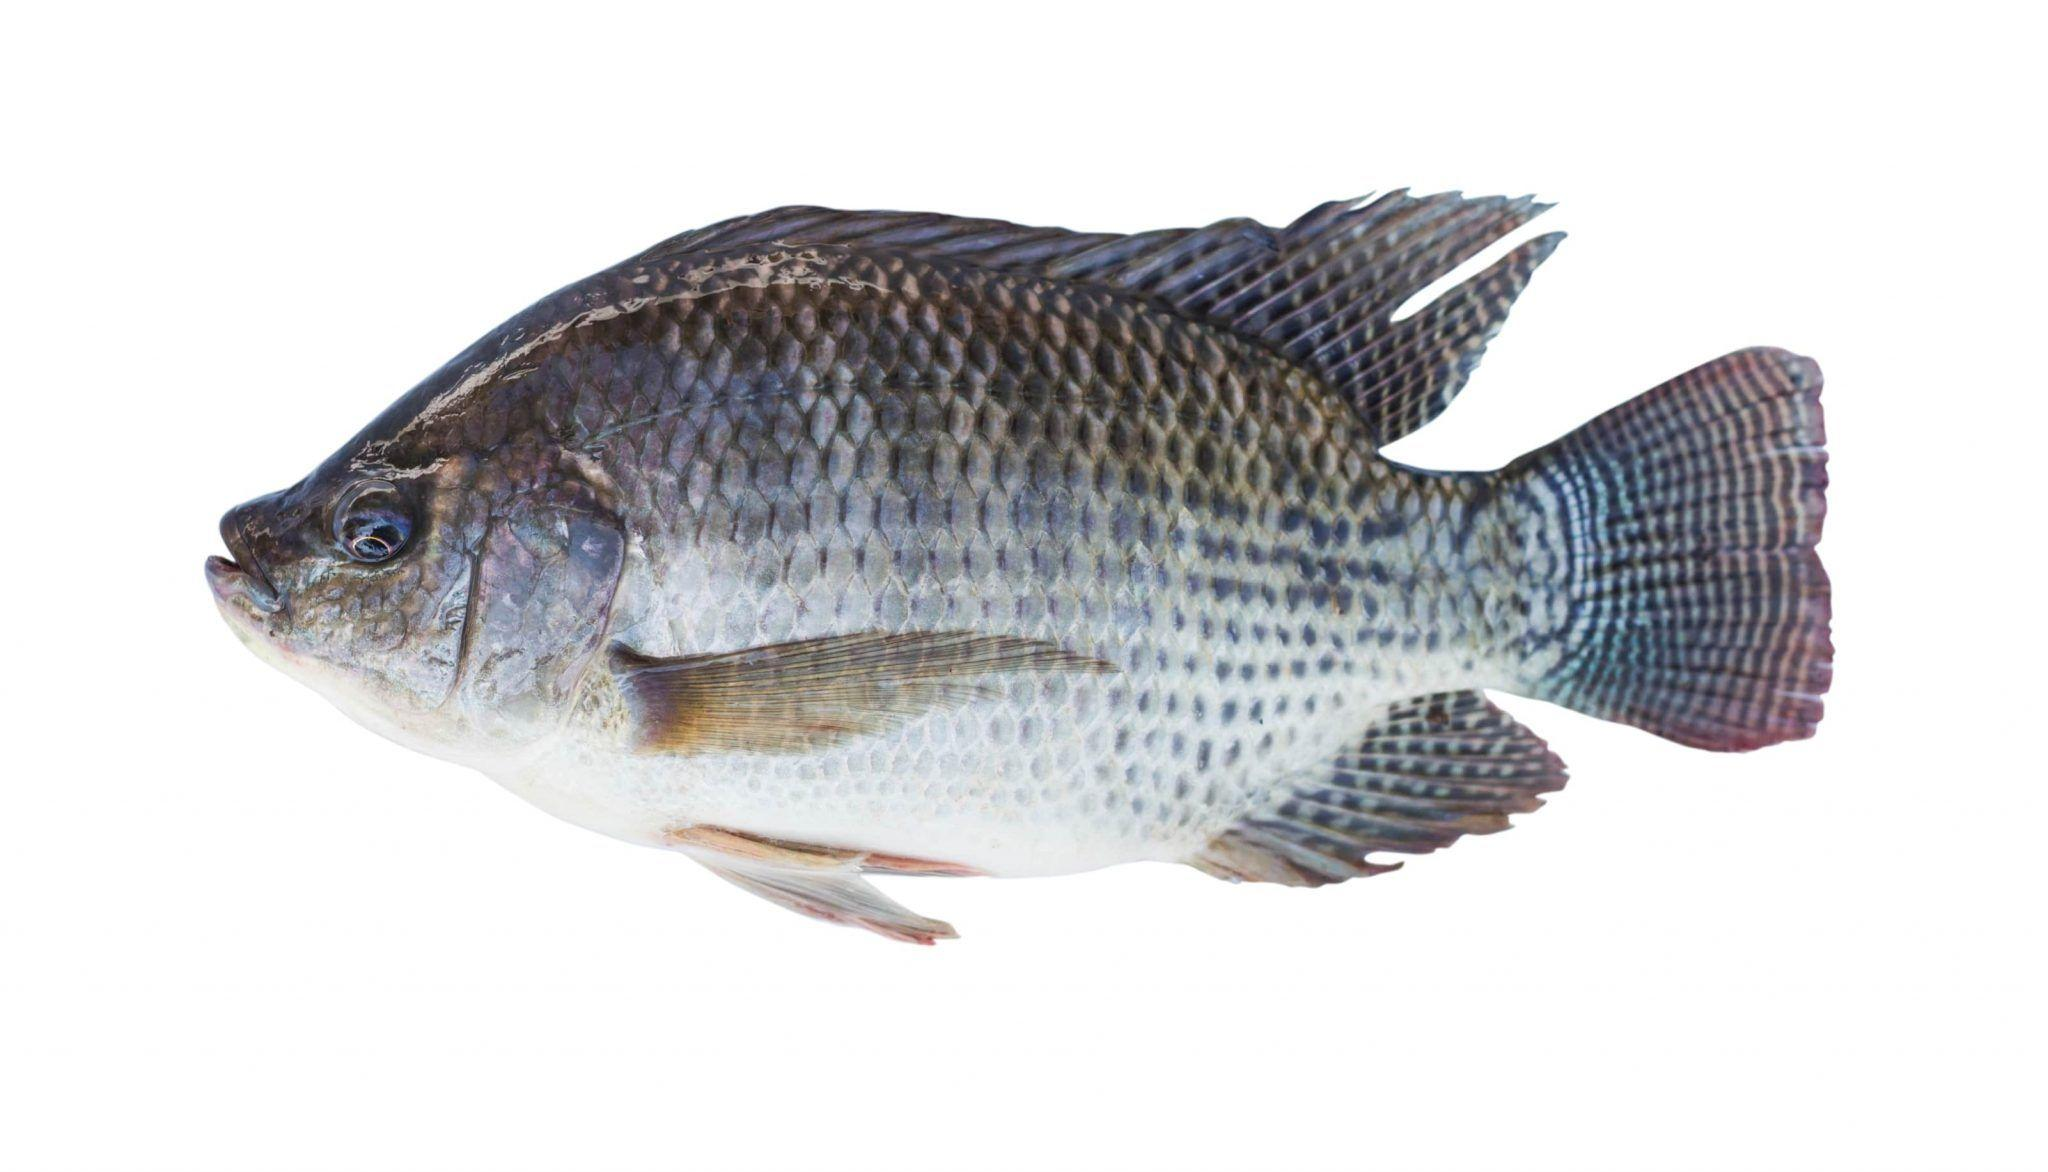Tilapia: (218, 173, 1834, 960)
